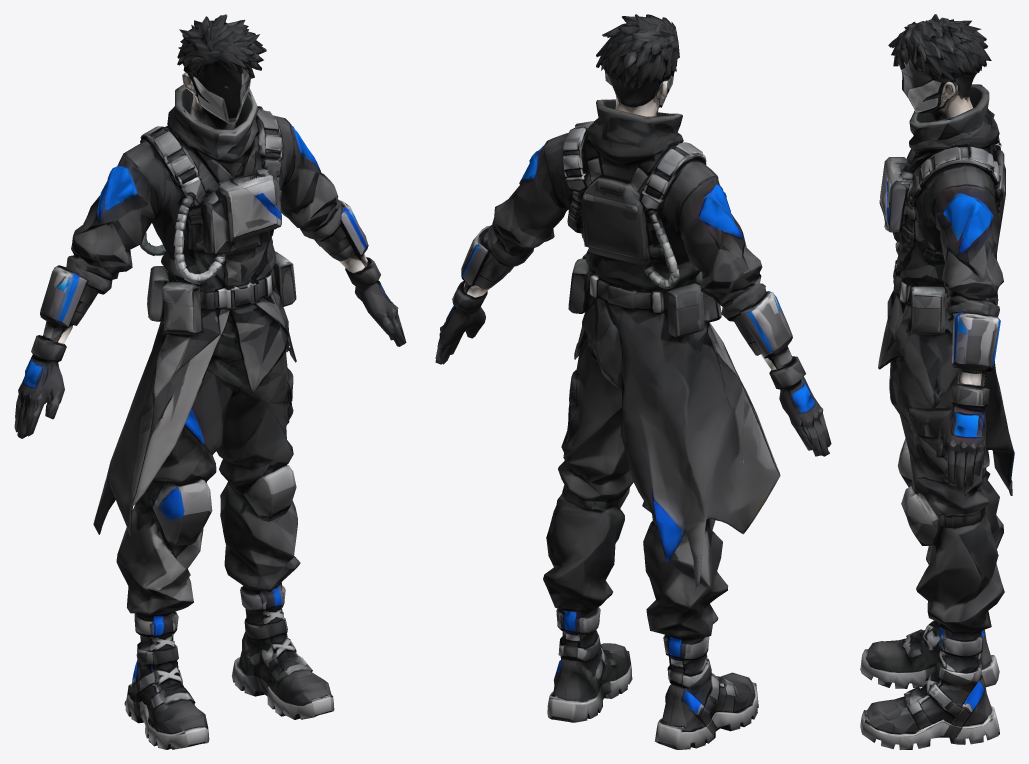
The model's file is RACE.fbx.
The picture shows the model from 3 angles, left to right: view 1: azimuth 30°, elevation 25°; view 2: azimuth 150°, elevation 25°; view 3: azimuth 270°, elevation 25°; orthographic projection.
Visible parts, largest first — view 1: tripo_part_0, tripo_part_3, tripo_part_2, tripo_part_1.003, tripo_part_5.002, tripo_part_6.001, tripo_part_4; view 2: tripo_part_0, tripo_part_2, tripo_part_5.002, tripo_part_1.003, tripo_part_6.001, tripo_part_3, tripo_part_4; view 3: tripo_part_0, tripo_part_1.003, tripo_part_6.001, tripo_part_3, tripo_part_4, tripo_part_5.002.
Boxes of the visible parts, bbox=[...] form: tripo_part_0: bbox=[93, 84, 296, 536]; tripo_part_3: bbox=[140, 333, 296, 545]; tripo_part_2: bbox=[14, 142, 196, 438]; tripo_part_1.003: bbox=[220, 481, 334, 719]; tripo_part_5.002: bbox=[116, 499, 209, 749]; tripo_part_6.001: bbox=[273, 115, 406, 346]; tripo_part_4: bbox=[177, 14, 266, 129]; tripo_part_0: bbox=[561, 99, 780, 591]; tripo_part_2: bbox=[650, 159, 831, 456]; tripo_part_5.002: bbox=[643, 521, 758, 749]; tripo_part_1.003: bbox=[543, 494, 632, 722]; tripo_part_6.001: bbox=[435, 133, 572, 364]; tripo_part_3: bbox=[558, 332, 715, 530]; tripo_part_4: bbox=[596, 14, 679, 116]; tripo_part_0: bbox=[878, 84, 1014, 495]; tripo_part_1.003: bbox=[860, 514, 1004, 749]; tripo_part_6.001: bbox=[916, 165, 1003, 489]; tripo_part_3: bbox=[891, 355, 989, 545]; tripo_part_4: bbox=[888, 14, 991, 120]; tripo_part_5.002: bbox=[860, 470, 1003, 688].
Size of the model in its own units: 0.5712 by 0.9813 by 0.1981.
Materials: 7 (7 with a texture image).
